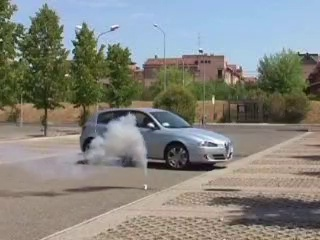smoke: (1, 111, 149, 182)
